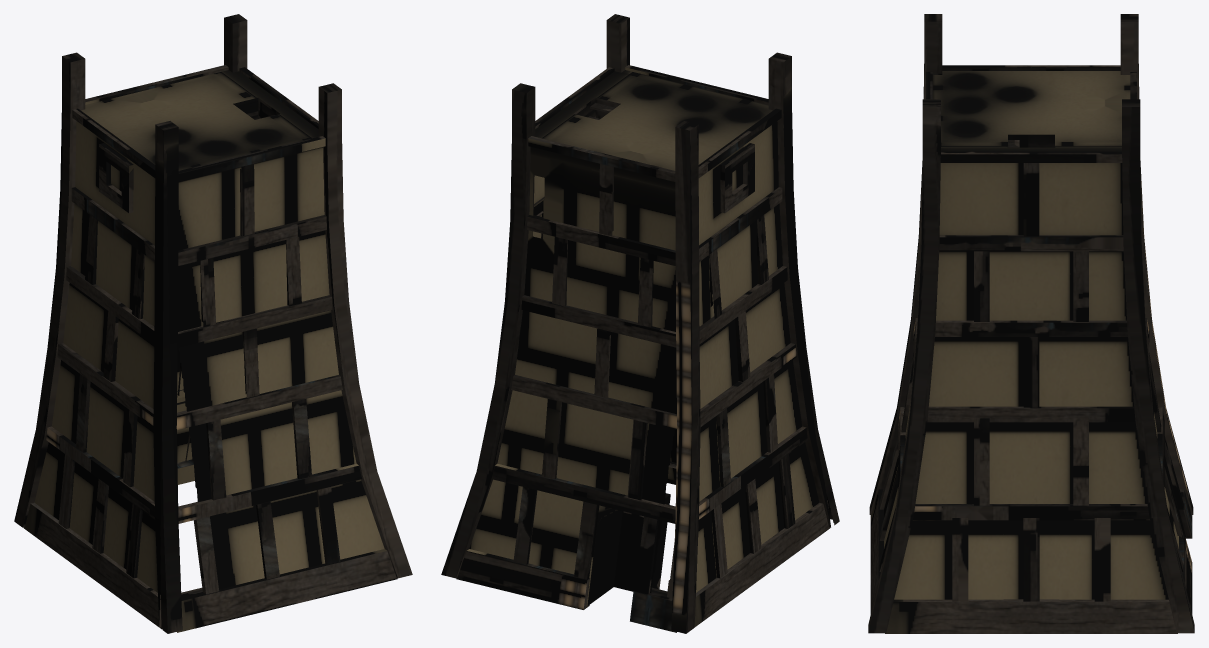
Rendered from MS_Windmill6.fbx.
The picture shows the model from 3 angles, left to right: view 1: azimuth 30°, elevation 25°; view 2: azimuth 150°, elevation 25°; view 3: azimuth 270°, elevation 25°; orthographic projection. The views are drawn at different scales.
Visible parts, largest first — view 1: Cube.013; view 2: Cube.013; view 3: Cube.013.
Part boxes in pixels (x1=…): Cube.013: x1=14, y1=14, x2=412, y2=633; Cube.013: x1=441, y1=14, x2=839, y2=633; Cube.013: x1=868, y1=14, x2=1194, y2=633.
Size of the model in its own units: 760 by 1430 by 835.
1 material, 1 textured.
